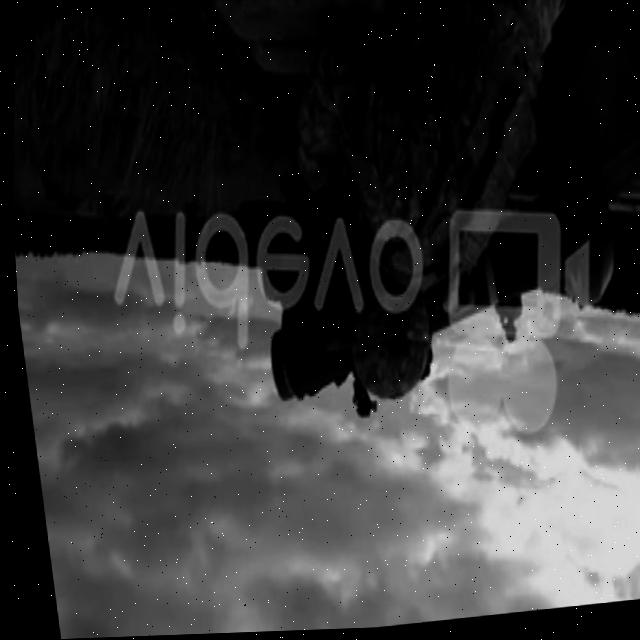rocket: (232, 109, 640, 455)
